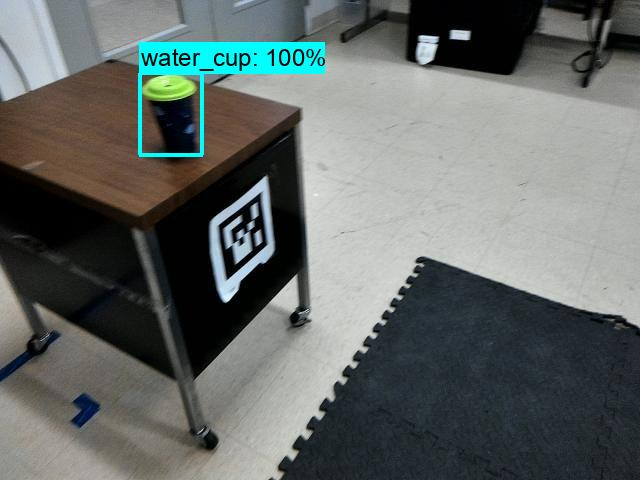water_cup: (139, 74, 202, 153)
